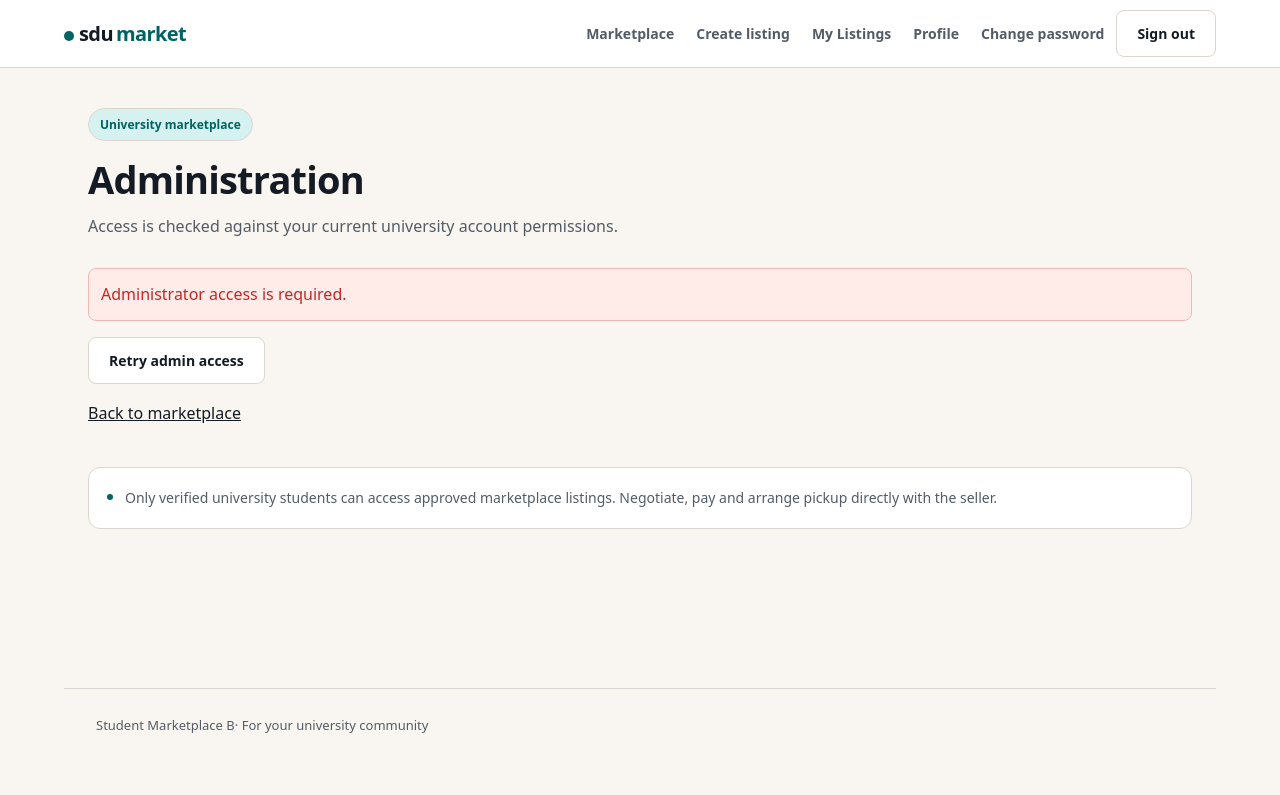
Test: ordinary direct route and server demotion deny admin without logging student out
Expected: the text "Administrator access is required." is shown, [88,268,1192,321]
Expected: the button "Sign out" is shown, [1116,10,1216,57]
Click the link "Back to marketplace".
click(164, 413)  # box [88,402,241,424]
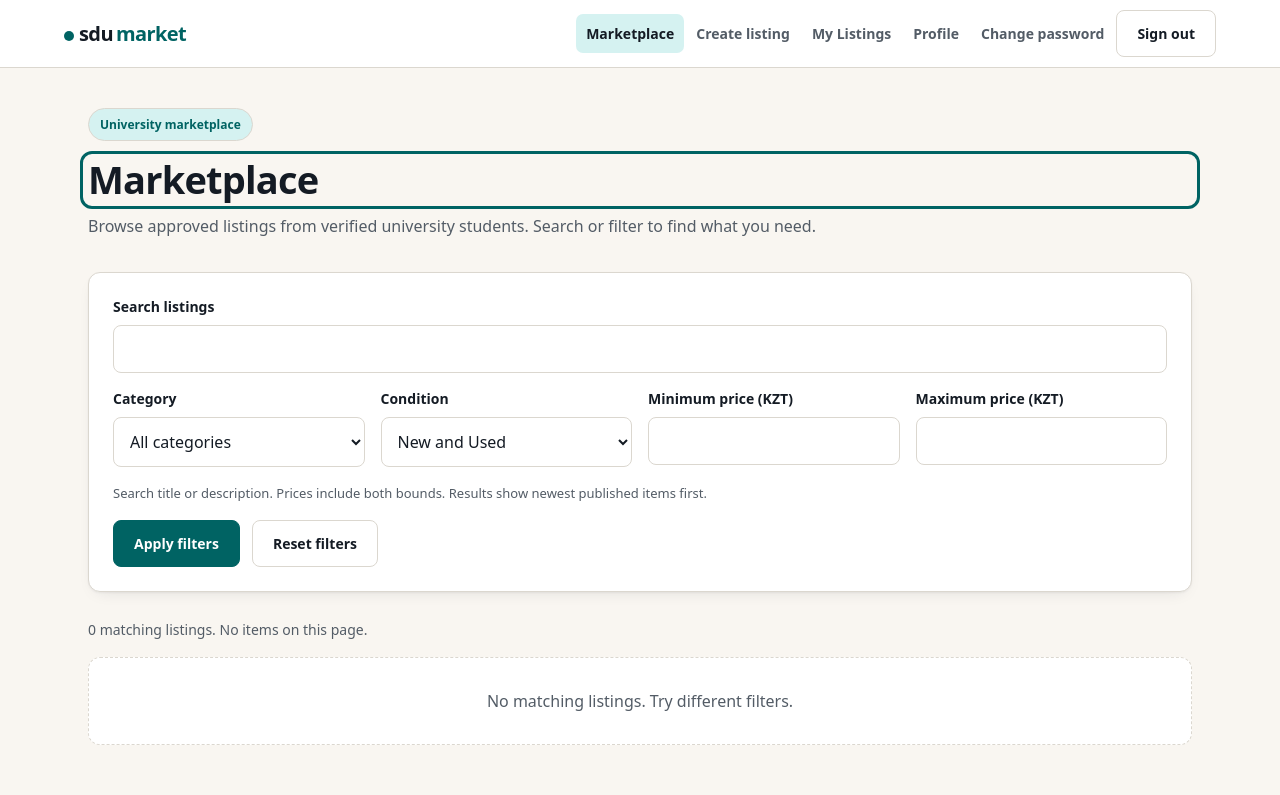
Now the heading "Marketplace" is shown, box [88,153,318,205]
